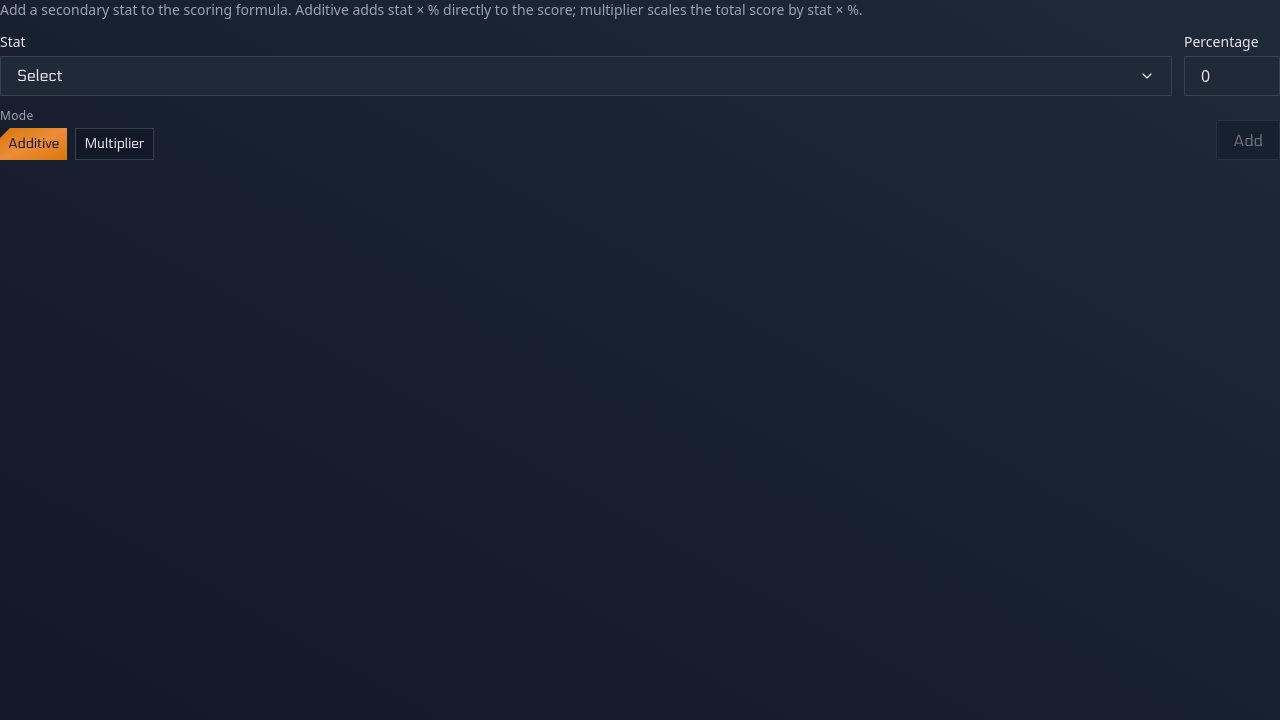
it: StatBonusForm › labels the derived stats
Click the label labelled "Stat" at (13, 42), box [0, 32, 26, 51]
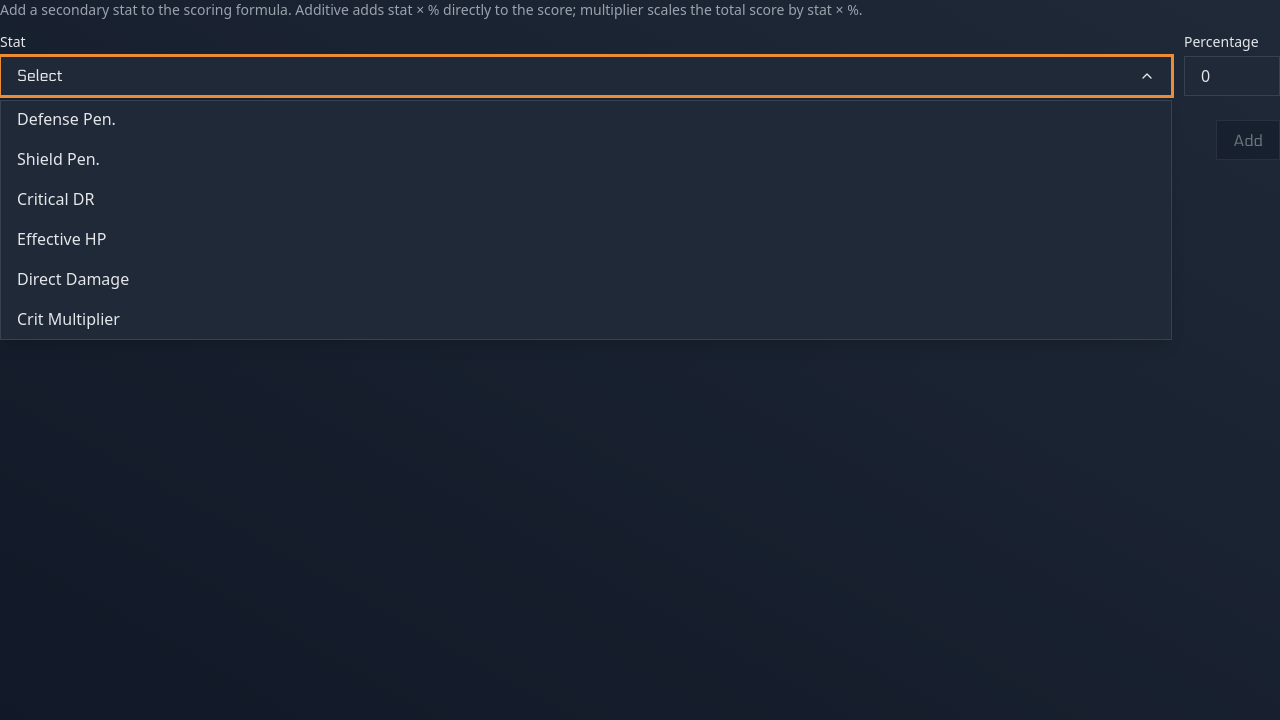
Check: the option "Direct Damage" is shown, box [17, 268, 129, 290]
Check: the option "Effective HP" is shown, box [17, 228, 106, 250]
